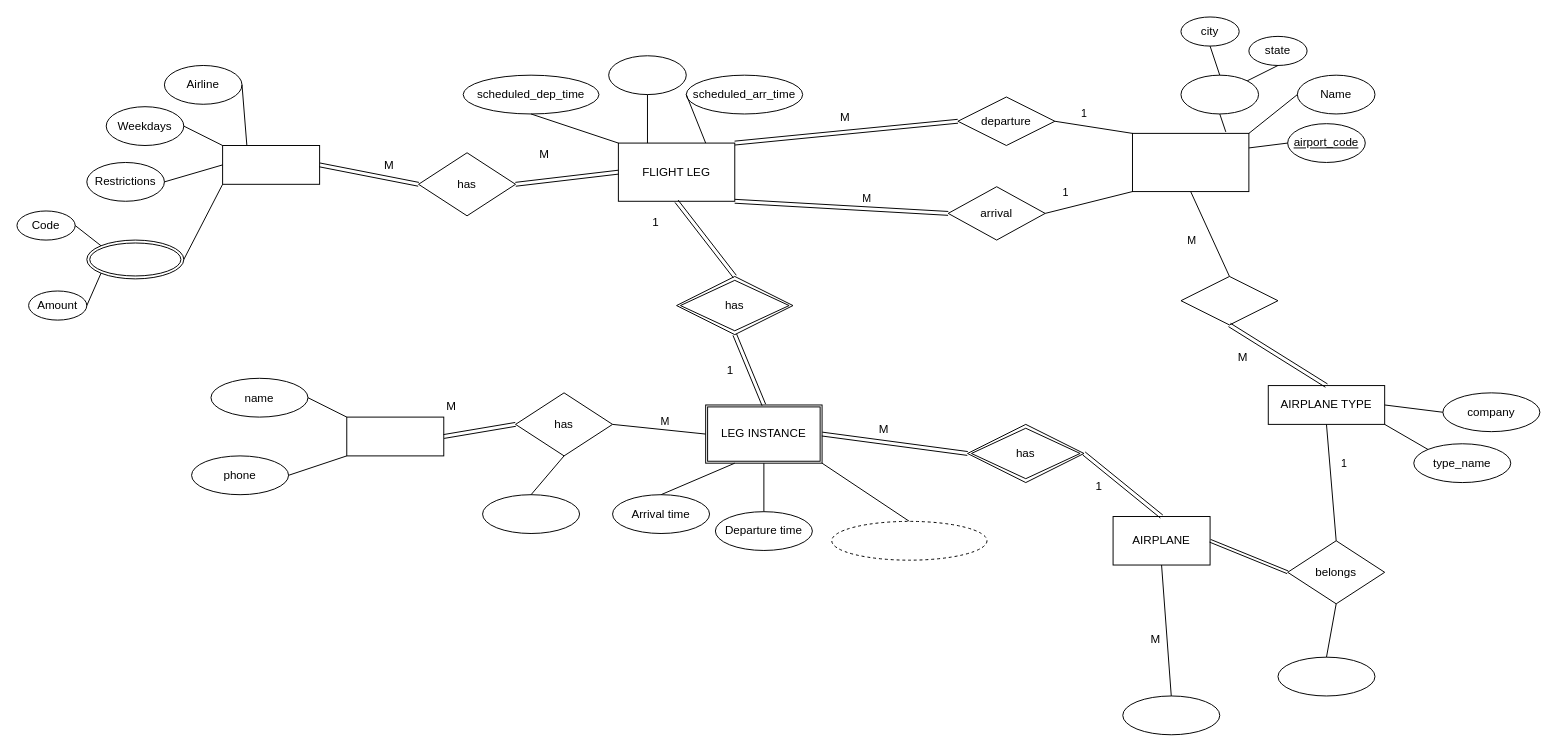
The diagram is 1557 pixels wide and 752 high, and some of its shapes have lost their labels. The shapes that lost their labels are listed below. From the top down, each one's centre as x and y in pixels, then its label:
At [647,75]: "leg_no".
At [1219,94]: "Address".
At [271,164]: "FLIGHT".
At [1190,162]: "AIRPORT".
At [135,259]: "fares".
At [1229,300]: "landing".
At [395,436]: "customer".
At [531,514]: "seat number".
At [909,540]: "Number of available seats".
At [1326,676]: "max_seats".
At [1171,715]: "airplane_id".
